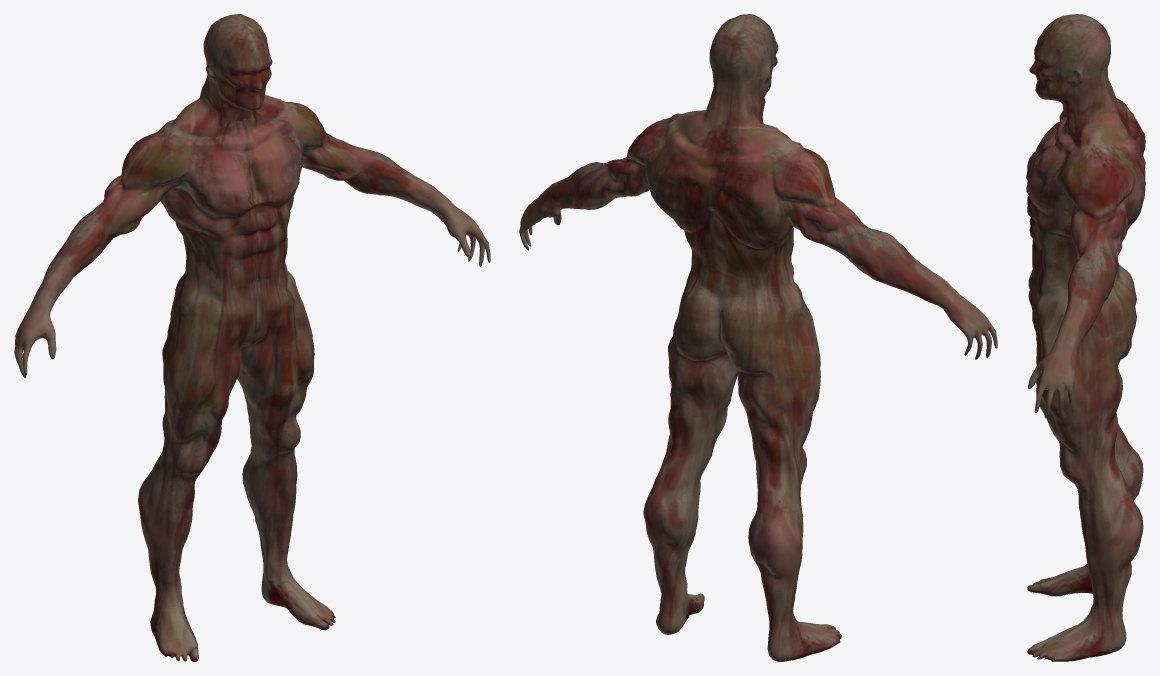
The model's file is scan_z8.glb.
3 views of the same model, side by side, from view 1: azimuth 30°, elevation 25°; view 2: azimuth 150°, elevation 25°; view 3: azimuth 270°, elevation 25° (orthographic).
Visible parts, largest first — view 1: male_zbrush_male_zbrush_0; view 2: male_zbrush_male_zbrush_0; view 3: male_zbrush_male_zbrush_0.
Boxes of the visible parts, x1=… form: male_zbrush_male_zbrush_0: x1=14, y1=14, x2=490, y2=661; male_zbrush_male_zbrush_0: x1=519, y1=14, x2=997, y2=661; male_zbrush_male_zbrush_0: x1=1026, y1=14, x2=1145, y2=661.
Size of the model in its own units: 2.26 by 2.84 by 0.5063.
Materials: 1 (1 with a texture image).
